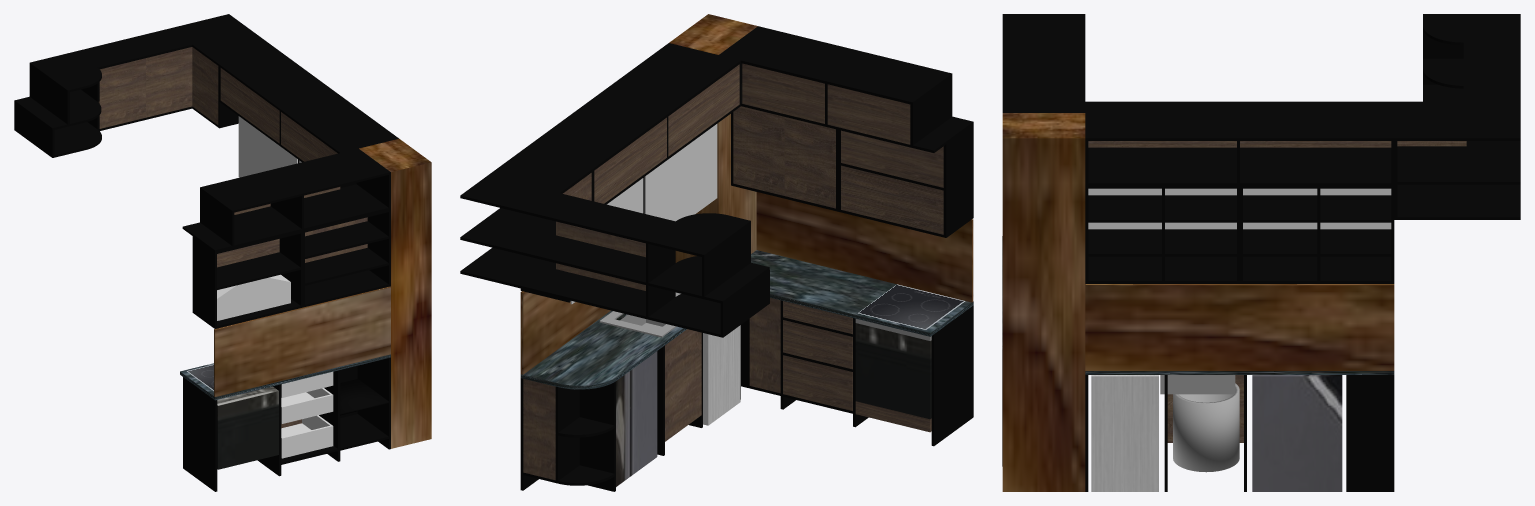
File: kitchen.fbx
3 renders of one model, left to right at view 1: azimuth 30°, elevation 25°; view 2: azimuth 150°, elevation 25°; view 3: azimuth 270°, elevation 25°, orthographic. The views are drawn at different scales.
Visible parts, largest first — view 1: ventilation-box, worktop-back_right, module-middle-top_top, oven, moduleL_top_left, oven-module_wall_right, moduleR-top_top_left, moduleL_top_right, moduleL_door_mid, moduleL_door_left, moduleR-top_bot_right, moduleR-top_bot_left (+36 smaller); view 2: worktop-back_right, module-middle-top_top, oven, worktop_right, worktop_left, moduleL_top_left, oven-module_wall_right, moduleL_bot_left, moduleL_shelf_left, ventilation-box, module-right-center_2_door_bot, moduleL_top_right (+44 smaller); view 3: ventilation-box, worktop-back_left, module-middle-top_top, module-middle-top_bot, Washing Machine.003, dishwasher, electrics-module_wall_left, bin, moduleL_top_left, moduleL_top_right, moduleL_shelf_right, moduleR-top_top_left (+21 smaller).
Part boxes in pixels (left/top/right/bottom): ventilation-box: left=359, top=138, right=431, bottom=448; worktop-back_right: left=214, top=286, right=390, bottom=396; module-middle-top_top: left=219, top=50, right=398, bottom=153; oven: left=217, top=386, right=278, bottom=469; moduleL_top_left: left=32, top=28, right=192, bottom=78; oven-module_wall_right: left=183, top=377, right=217, bottom=491; moduleR-top_top_left: left=272, top=149, right=388, bottom=195; moduleL_top_right: left=170, top=14, right=276, bottom=65; moduleL_door_mid: left=146, top=47, right=192, bottom=117; moduleL_door_left: left=98, top=58, right=145, bottom=128; moduleR-top_bot_right: left=182, top=206, right=301, bottom=252; moduleR-top_bot_left: left=304, top=184, right=388, bottom=230; worktop-back_right: left=756, top=192, right=973, bottom=302; module-middle-top_top: left=521, top=43, right=740, bottom=171; oven: left=855, top=323, right=931, bottom=419; worktop_right: left=751, top=250, right=973, bottom=336; worktop_left: left=520, top=310, right=686, bottom=389; moduleL_top_left: left=532, top=193, right=728, bottom=256; oven-module_wall_right: left=931, top=305, right=973, bottom=446; moduleL_bot_left: left=532, top=270, right=750, bottom=337; moduleL_shelf_left: left=530, top=235, right=748, bottom=303; ventilation-box: left=669, top=14, right=757, bottom=262; module-right-center_2_door_bot: left=841, top=165, right=943, bottom=234; moduleL_top_right: left=460, top=152, right=591, bottom=215; ventilation-box: left=1002, top=113, right=1085, bottom=491; worktop-back_left: left=1085, top=284, right=1394, bottom=370; module-middle-top_top: left=1085, top=101, right=1394, bottom=140; module-middle-top_bot: left=1085, top=147, right=1394, bottom=185; Washing Machine.003: left=1252, top=375, right=1342, bottom=491; dishwasher: left=1091, top=375, right=1158, bottom=491; electrics-module_wall_left: left=1349, top=375, right=1394, bottom=491; bin: left=1173, top=383, right=1239, bottom=472; moduleL_top_left: left=1463, top=15, right=1520, bottom=101; moduleL_top_right: left=1397, top=101, right=1520, bottom=140; moduleL_shelf_right: left=1397, top=146, right=1520, bottom=184; moduleR-top_top_left: left=1002, top=58, right=1085, bottom=111.
Size of the model in its own units: 213 by 260 by 345.
Materials: 11 (8 with a texture image).
